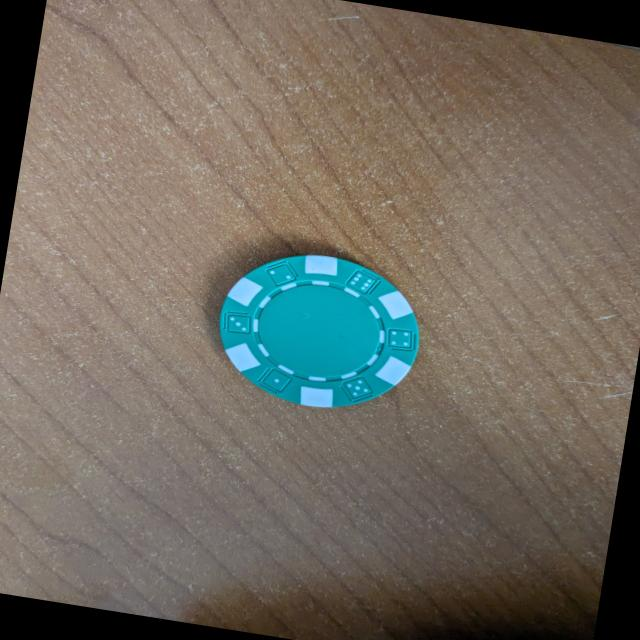green chip: (219, 250, 423, 409)
